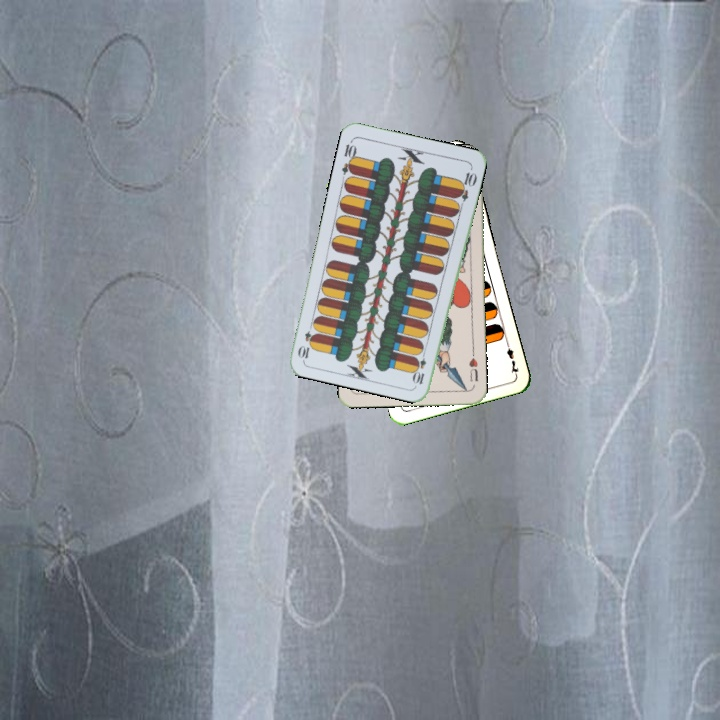E10: (338, 136, 359, 177), (411, 346, 429, 387)
E7: (502, 337, 521, 377)
HU: (465, 354, 481, 384)
